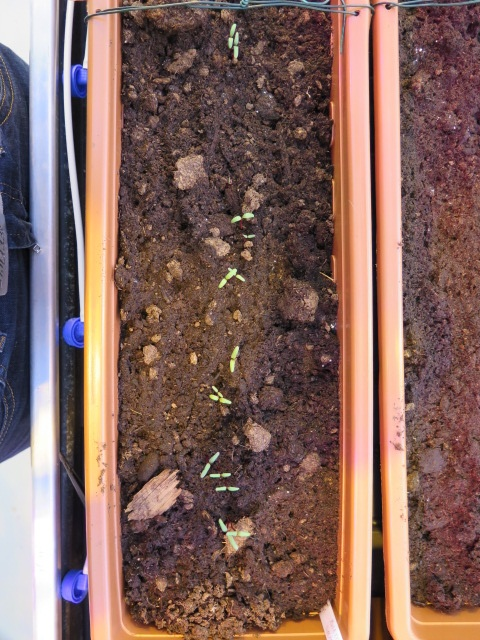crop: (201, 378, 237, 410), (213, 518, 243, 555), (226, 212, 258, 234), (201, 449, 221, 482), (226, 338, 241, 381), (228, 22, 243, 63), (207, 386, 233, 408), (204, 483, 244, 497), (208, 468, 237, 482), (244, 230, 267, 245), (224, 532, 257, 537)
